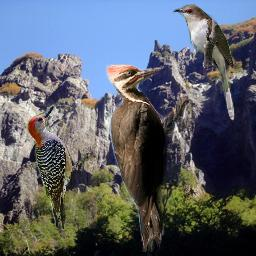Cuckoo: (172, 4, 235, 121)
Woodpecker: (105, 64, 189, 252), (23, 103, 97, 229)
